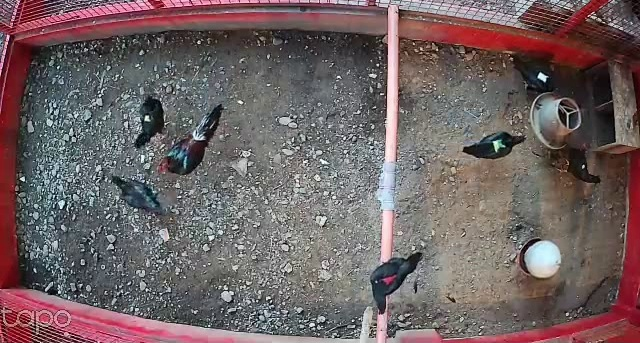Chicken: (368, 246, 428, 317), (108, 170, 166, 218), (460, 126, 527, 161), (136, 87, 172, 151), (507, 52, 559, 96), (552, 142, 602, 186)
Rooster: (159, 101, 229, 175)
Saddle_Color_Red: (382, 270, 397, 287)
Saddle_Color_White: (537, 71, 548, 83)
Saddle_Color_Yellow: (142, 114, 154, 121)
Saddle_Color_YellowGreen: (492, 138, 505, 151)
